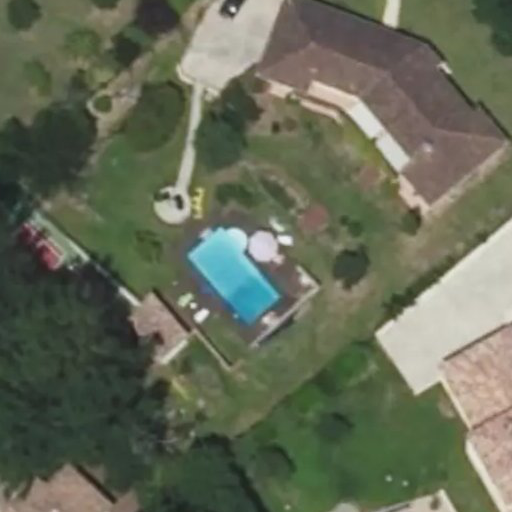pool: (203, 219, 308, 265)
